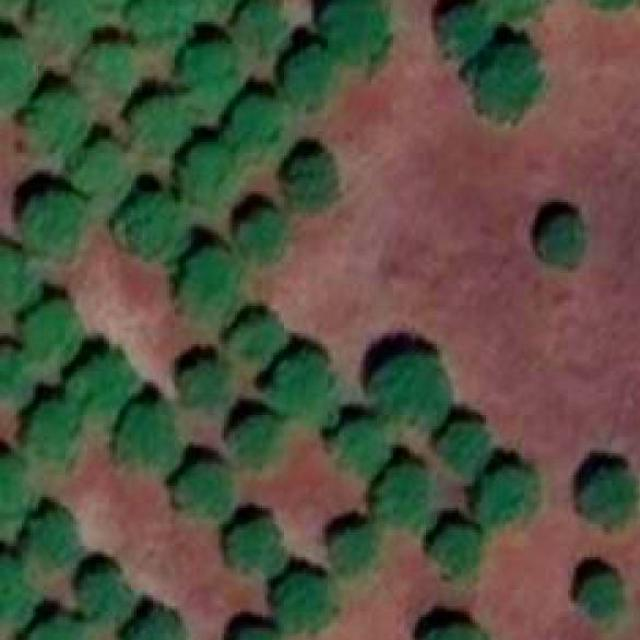Tree: (375, 355, 451, 429), (475, 46, 539, 120), (273, 352, 336, 422), (117, 407, 180, 473), (324, 0, 387, 63), (22, 300, 82, 366), (71, 355, 142, 410), (124, 193, 184, 257), (186, 249, 240, 320), (30, 93, 90, 156), (180, 44, 240, 104), (24, 195, 87, 252), (180, 146, 238, 206), (478, 468, 536, 526), (129, 0, 198, 47), (377, 468, 431, 528), (134, 98, 192, 153), (74, 140, 129, 198), (82, 42, 136, 99), (29, 404, 82, 462), (38, 0, 93, 55), (230, 519, 288, 571), (278, 576, 336, 628), (80, 568, 134, 622), (178, 464, 233, 517), (27, 511, 80, 566), (284, 49, 333, 107), (335, 420, 388, 473), (581, 470, 633, 524), (290, 153, 338, 211), (0, 42, 42, 107), (233, 99, 287, 148), (440, 5, 489, 58), (238, 0, 285, 55), (235, 415, 282, 467), (442, 420, 486, 473), (429, 528, 478, 574), (233, 317, 287, 358), (244, 213, 287, 262), (0, 246, 33, 309), (544, 213, 582, 265), (0, 455, 35, 510), (333, 528, 377, 571), (180, 360, 224, 402), (579, 576, 622, 617), (0, 556, 27, 620), (22, 617, 85, 640), (131, 614, 184, 640), (0, 347, 27, 396), (489, 0, 543, 16), (425, 630, 483, 640), (233, 630, 280, 640)
